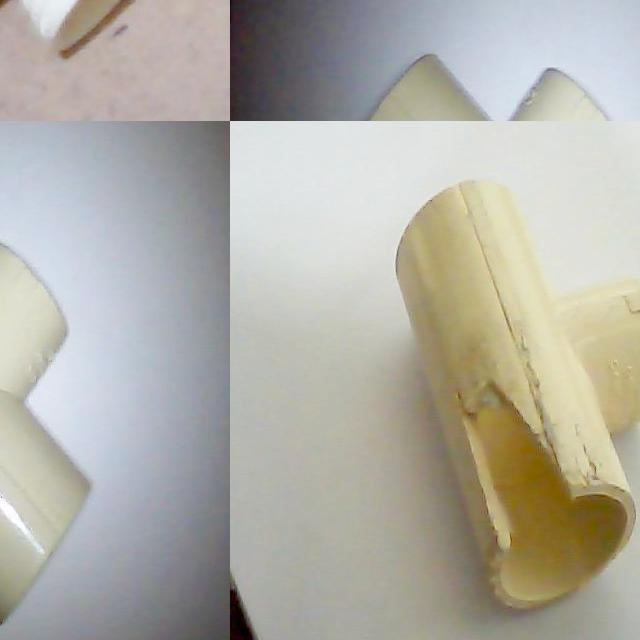Defective: (459, 380, 573, 552), (461, 404, 578, 553)
T Joint: (394, 180, 640, 613), (0, 242, 92, 627)
